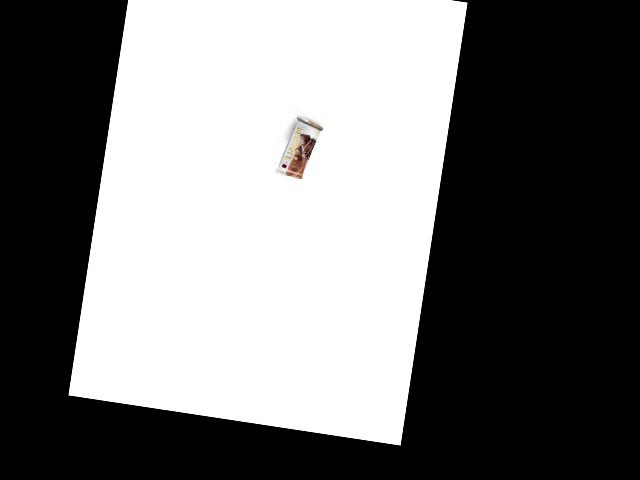chocolate: (273, 118, 328, 182)
